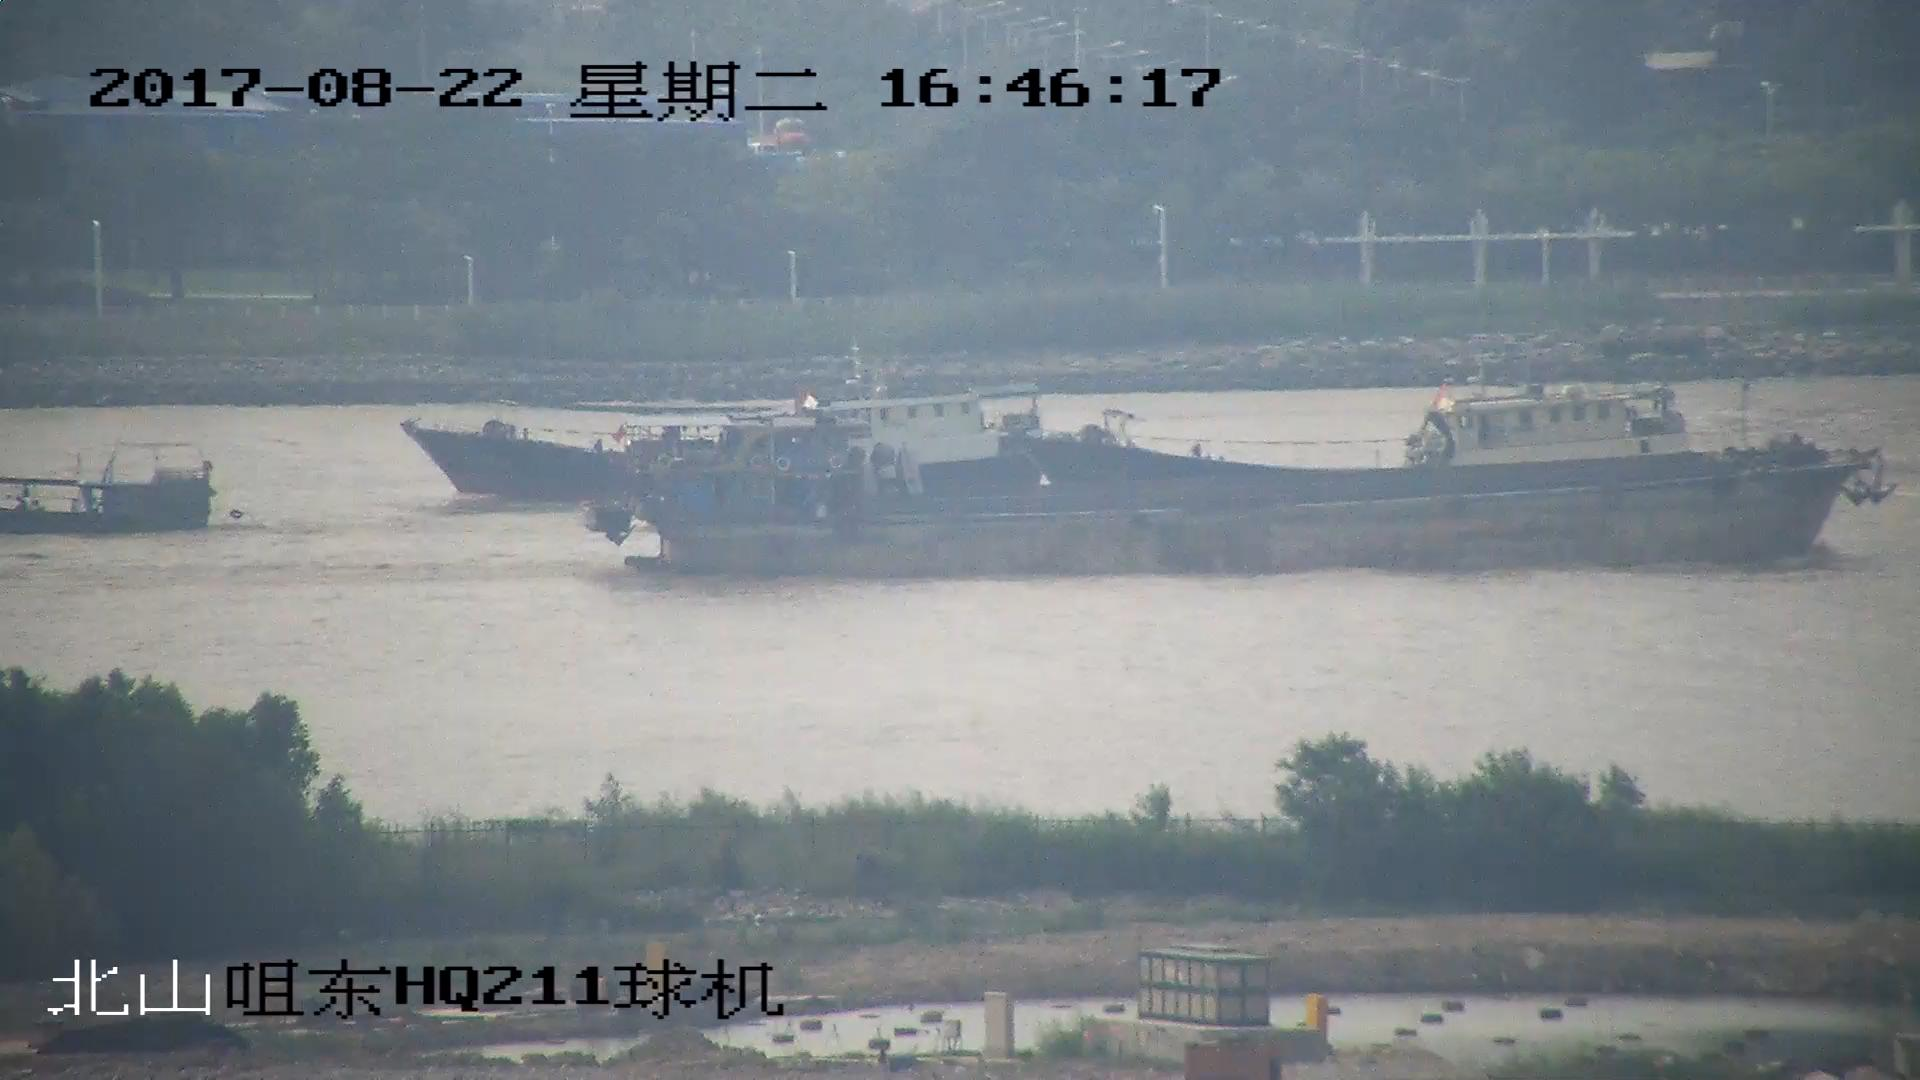bulk cargo carrier: (589, 416, 1893, 573)
fishing boat: (985, 374, 1701, 495), (408, 391, 1023, 507), (1, 442, 216, 531)
